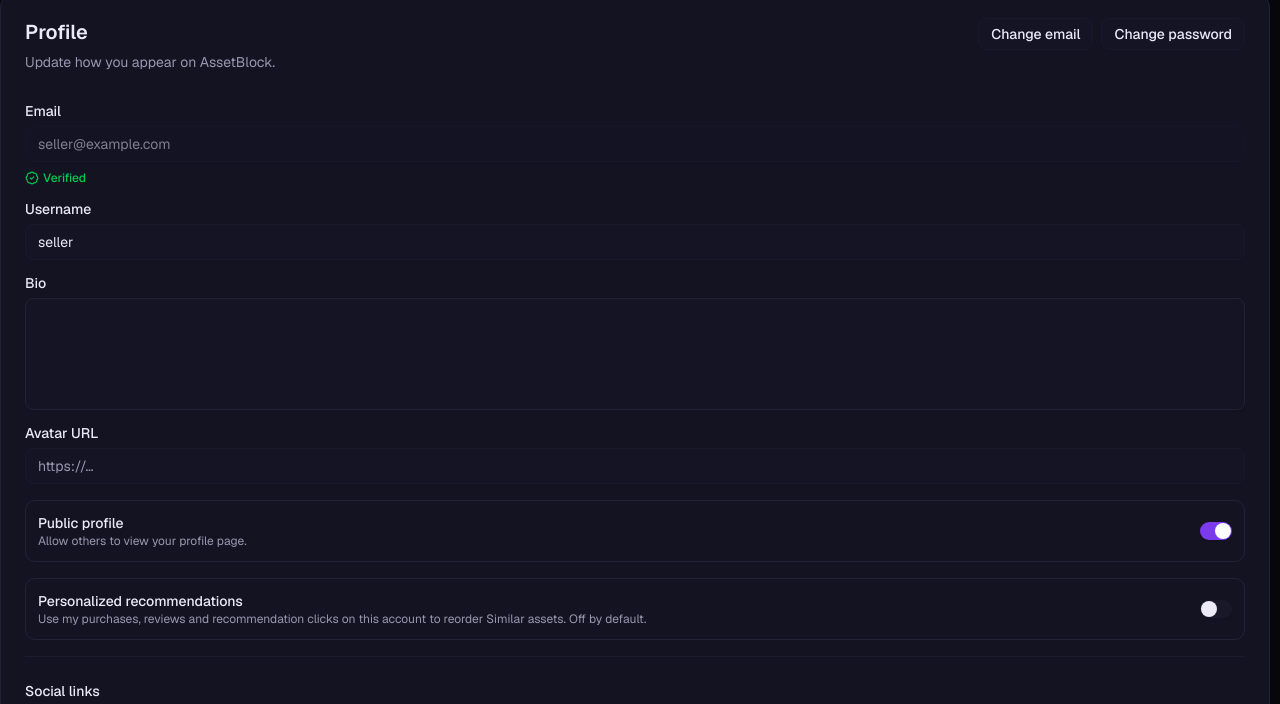
Scenario: AccountSettingsForm › updates cached profile only after backend success and exposes pending state
Replace the text in the field labelled "Username" with "updated-seller" at coordinates (635, 242), box [25,224,1245,260]
(page scrolled)
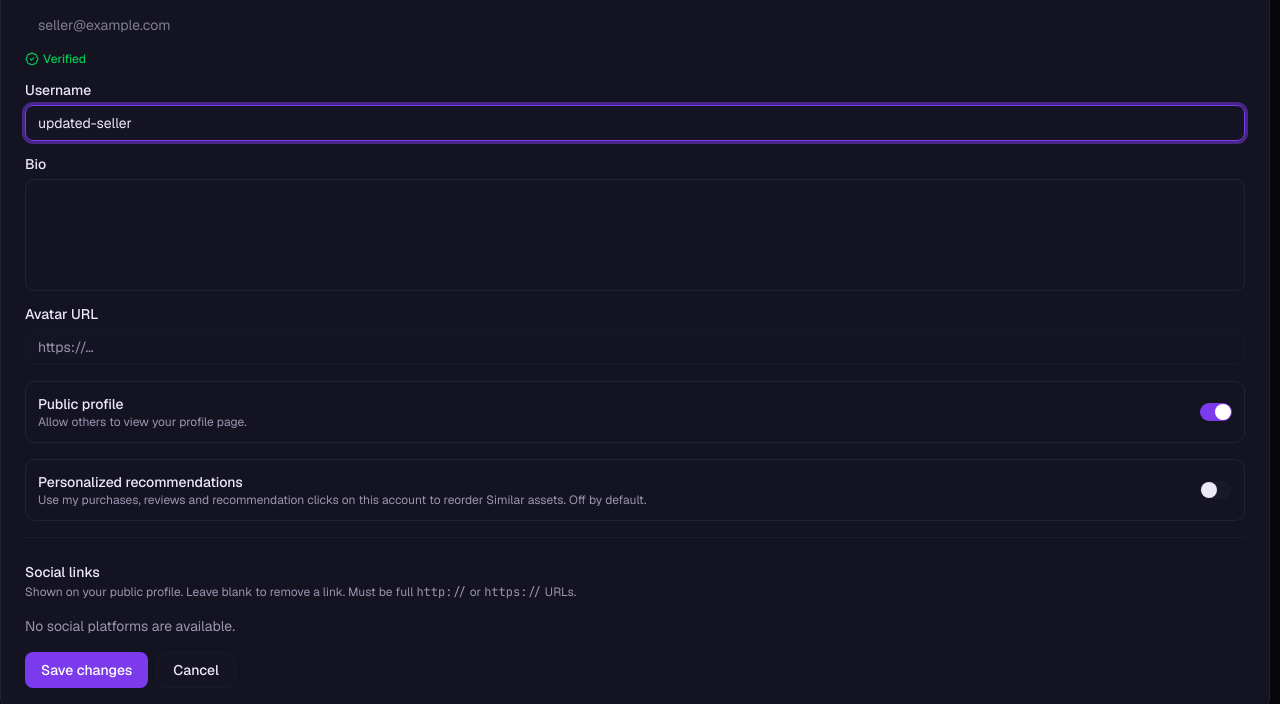
Click the button "Save changes" at coordinates (87, 670), box [25,652,148,688]
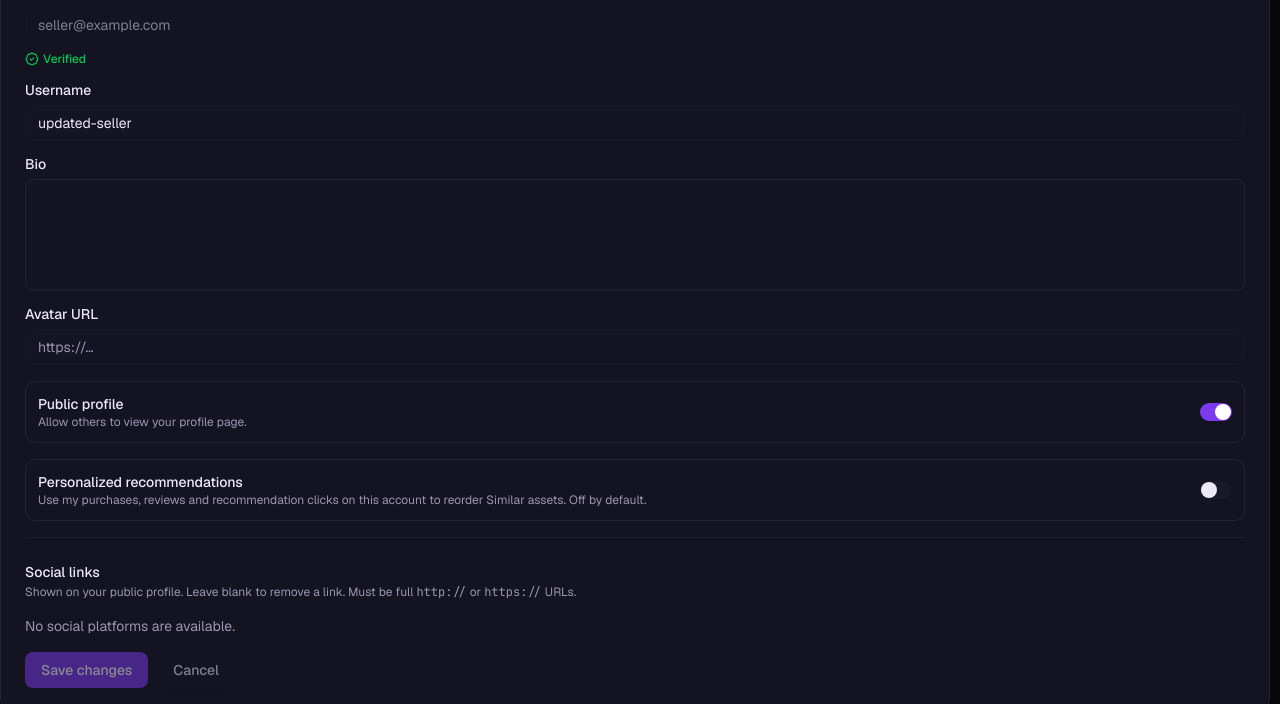
Expected: the button named "Saving…" is disabled, [25,652,148,688]
